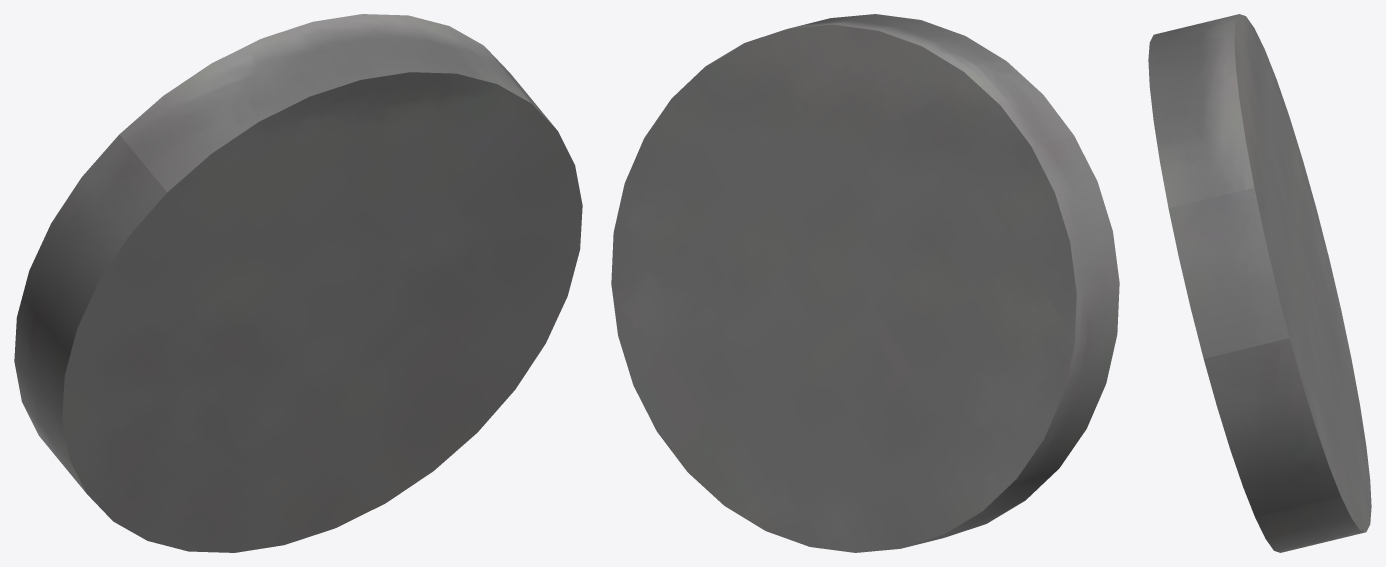
Rendered from cabinet__joystick_collar_0.glb.
3 renders of one model, left to right at view 1: azimuth 30°, elevation 25°; view 2: azimuth 150°, elevation 25°; view 3: azimuth 270°, elevation 25°, orthographic. The views are drawn at different scales.
Parts seen in each view (by area): view 1: geometry_0; view 2: geometry_0; view 3: geometry_0.
Part boxes in pixels (bbox=[...]): geometry_0: bbox=[14, 14, 582, 552]; geometry_0: bbox=[611, 14, 1119, 552]; geometry_0: bbox=[1148, 14, 1371, 552].
Size of the model in its own units: 0.036 by 0.0363 by 0.0151.
1 material, 1 textured.
